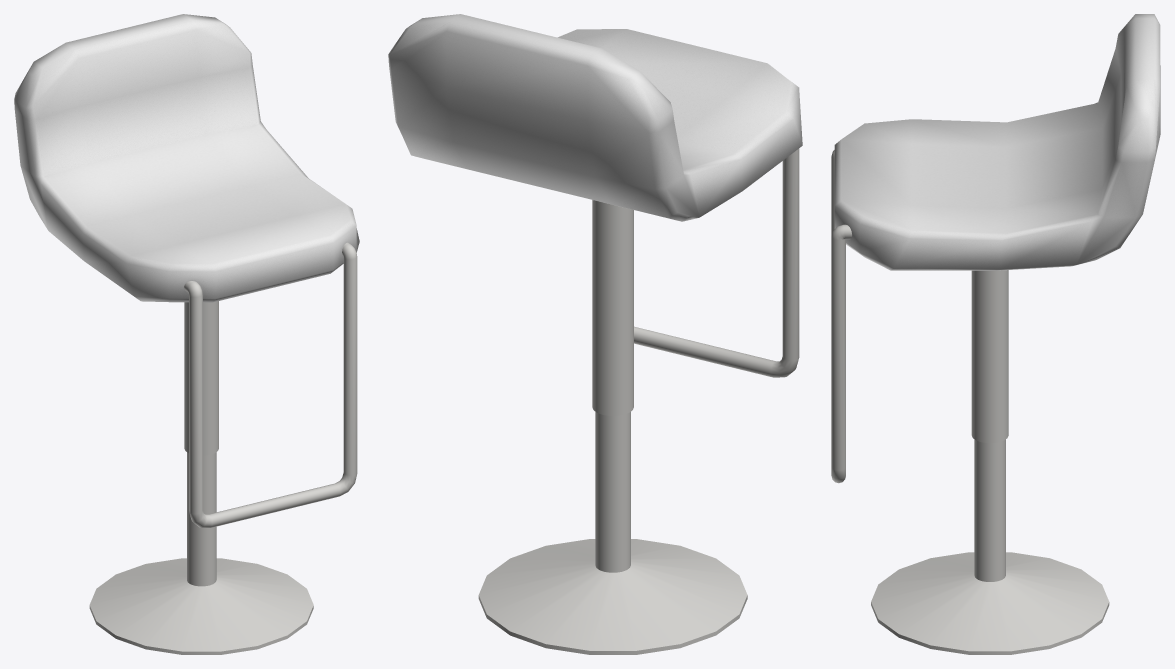
The model's file is BarChair01.FBX.
3 renders of one model, left to right at view 1: azimuth 30°, elevation 25°; view 2: azimuth 150°, elevation 25°; view 3: azimuth 270°, elevation 25°, orthographic. The views are drawn at different scales.
Visible parts, largest first — view 1: BarChair01; view 2: BarChair01; view 3: BarChair01.
Boxes of the visible parts, x1,y1,x2,y2 form: BarChair01: (14, 14, 359, 654); BarChair01: (388, 14, 802, 654); BarChair01: (831, 14, 1160, 654).
Size of the model in its own units: 47.19 by 105 by 56.1.
